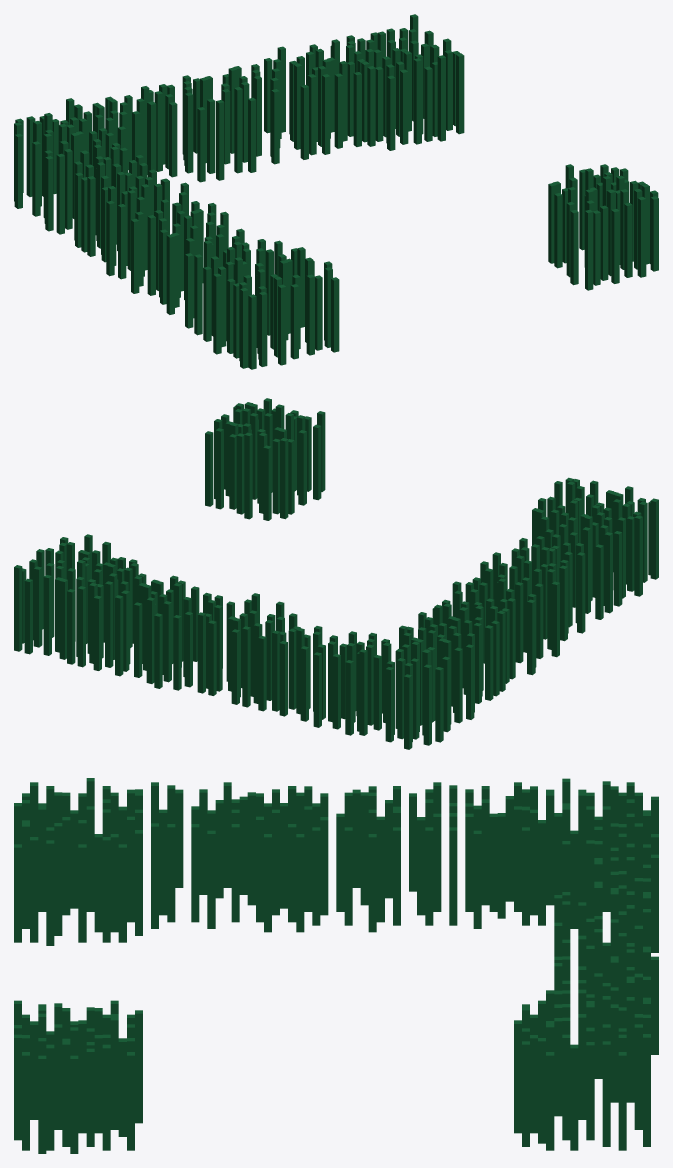
The model's file is river_plants_6_overtile.obj.
3 views of the same model, one above another, from view 1: azimuth 30°, elevation 25°; view 2: azimuth 150°, elevation 25°; view 3: azimuth 270°, elevation 25° (orthographic). The views are drawn at different scales.
Bounding box in the file's own units: 8 × 1.6 × 8.
Materials: 1 (1 with a texture image).
